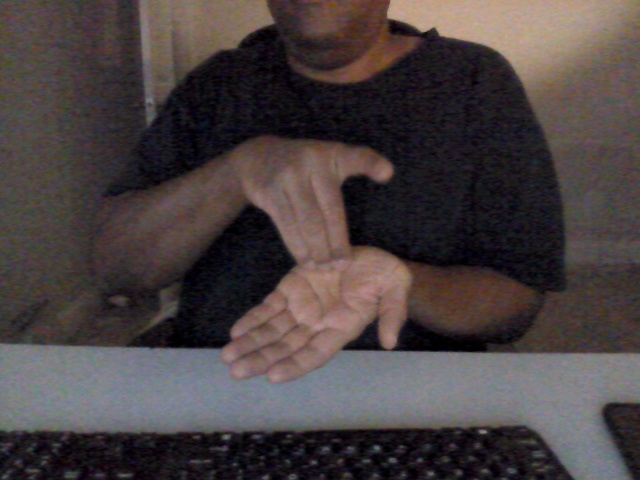doctor: (221, 130, 417, 391)
